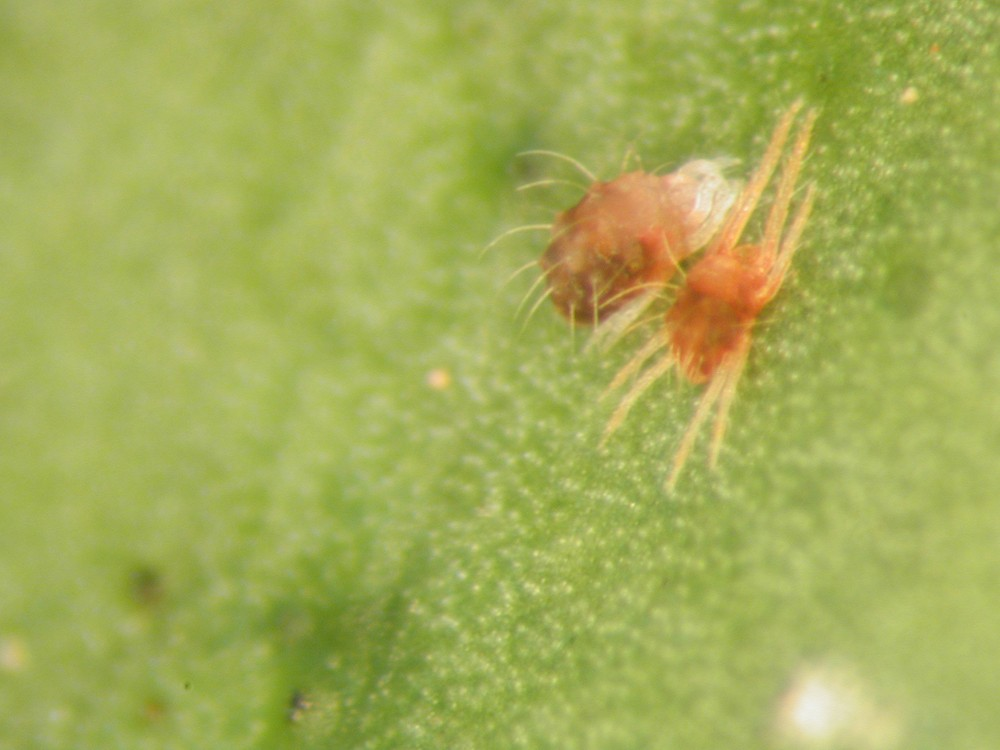Aracnido Rojo: (641, 58, 846, 500), (488, 112, 769, 328)
